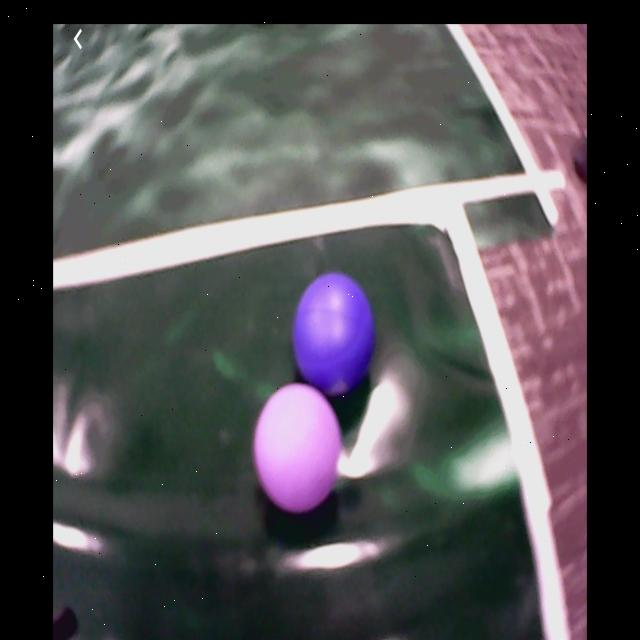ball: (256, 386, 341, 510), (294, 273, 373, 398)
